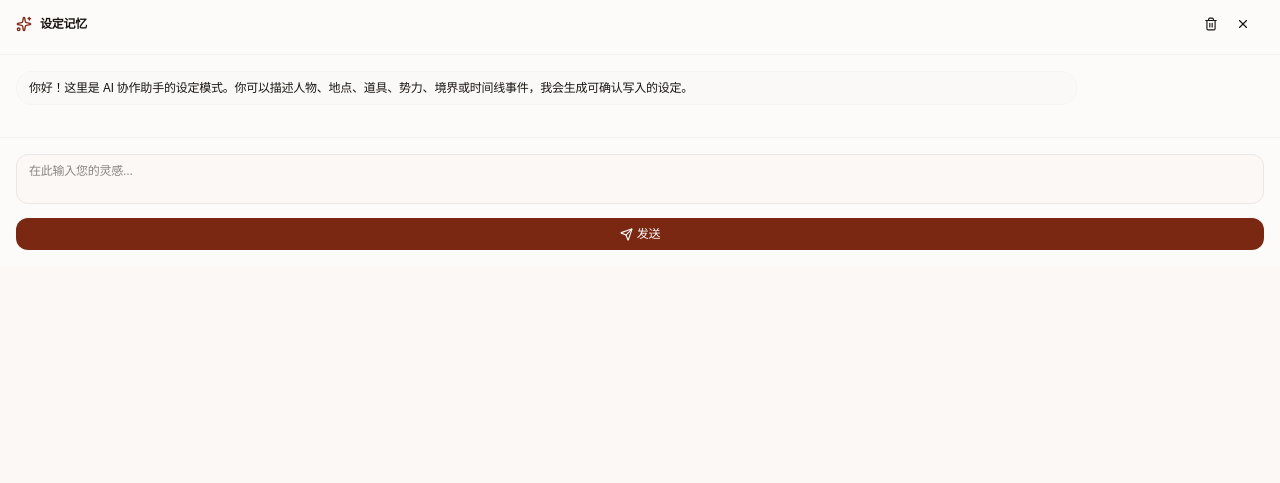
Test: WorldBibleAssistant continuation batch sync › 批量回复结构化解析失败时保留可操作草稿状态，不显示无效设定误导文案
This screenshot has width=1280, height=483.
Type "处理资料包中的设定" into the text box named "输入设定灵感".
click(640, 179); type("处理资料包中的设定")  # box [16,154,1264,204]
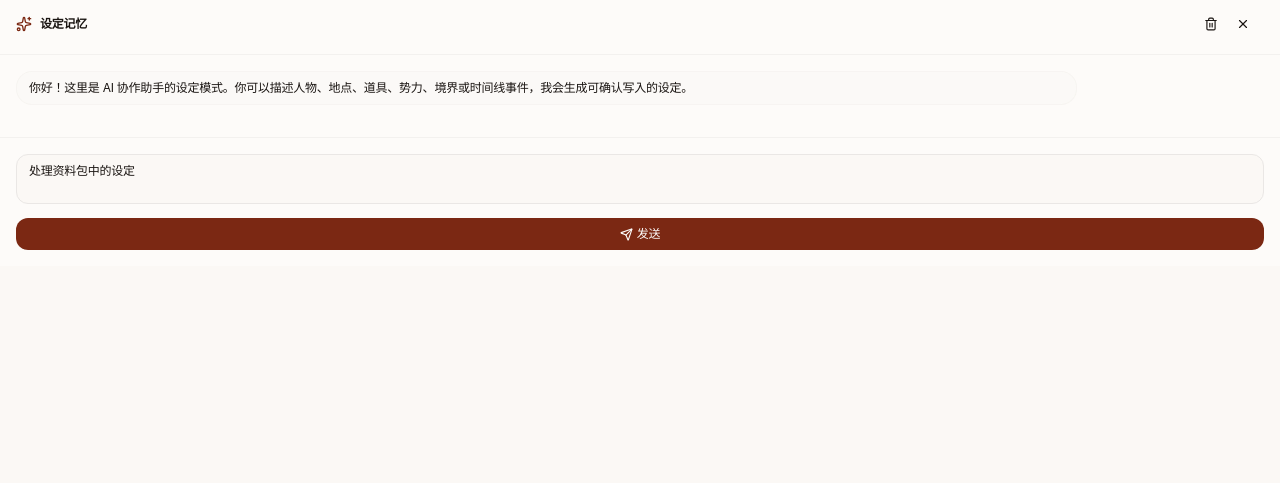
Click the button with aria-label "发送设定灵感".
click(640, 234)  # box [16,218,1264,250]
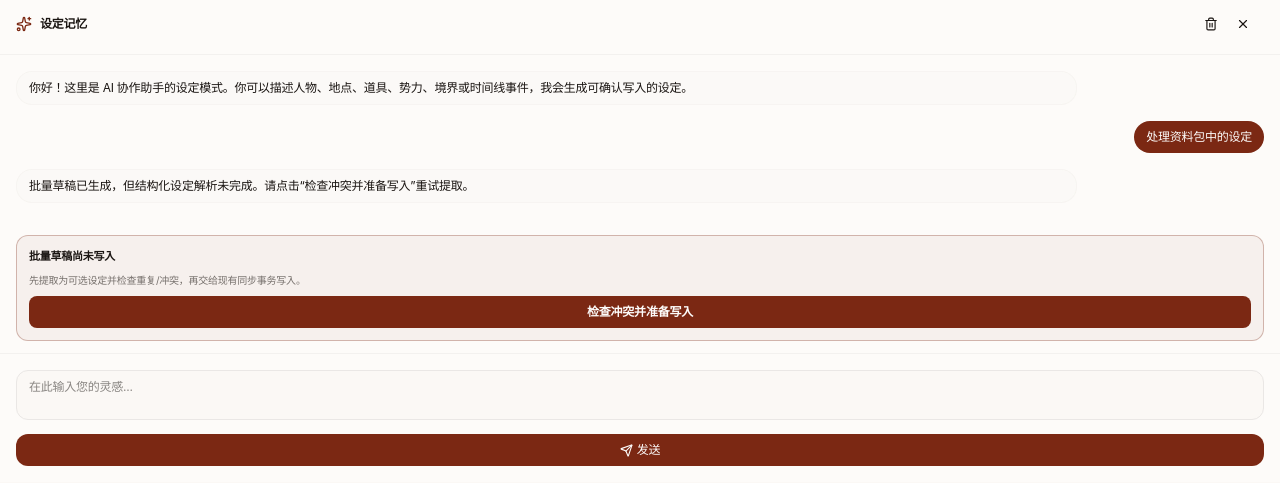
expect the text "结构化设定解析未完成" is shown: met, box [29,178,474,193]
expect the button "检查冲突并准备写入" is shown: met, box [29,296,1251,328]
